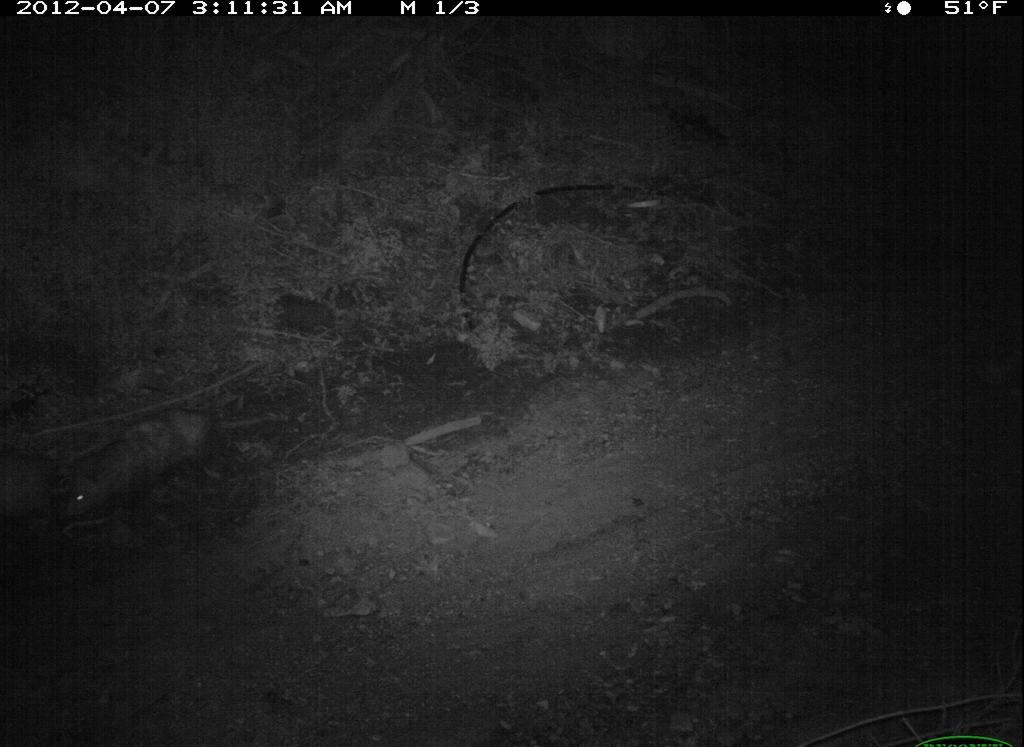opossum: (30, 386, 295, 546)
